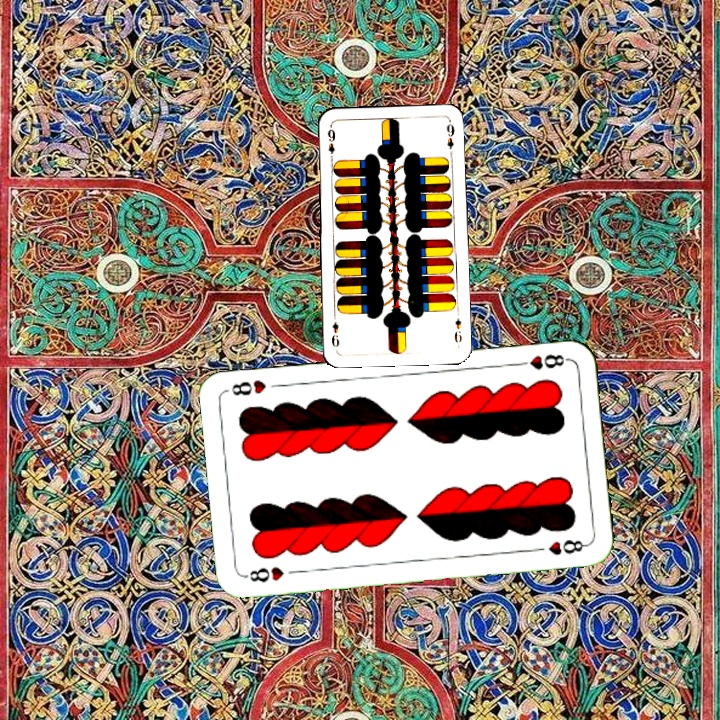E9: (323, 122, 338, 163), (450, 307, 464, 345)
H8: (512, 350, 571, 372), (241, 562, 287, 585)
